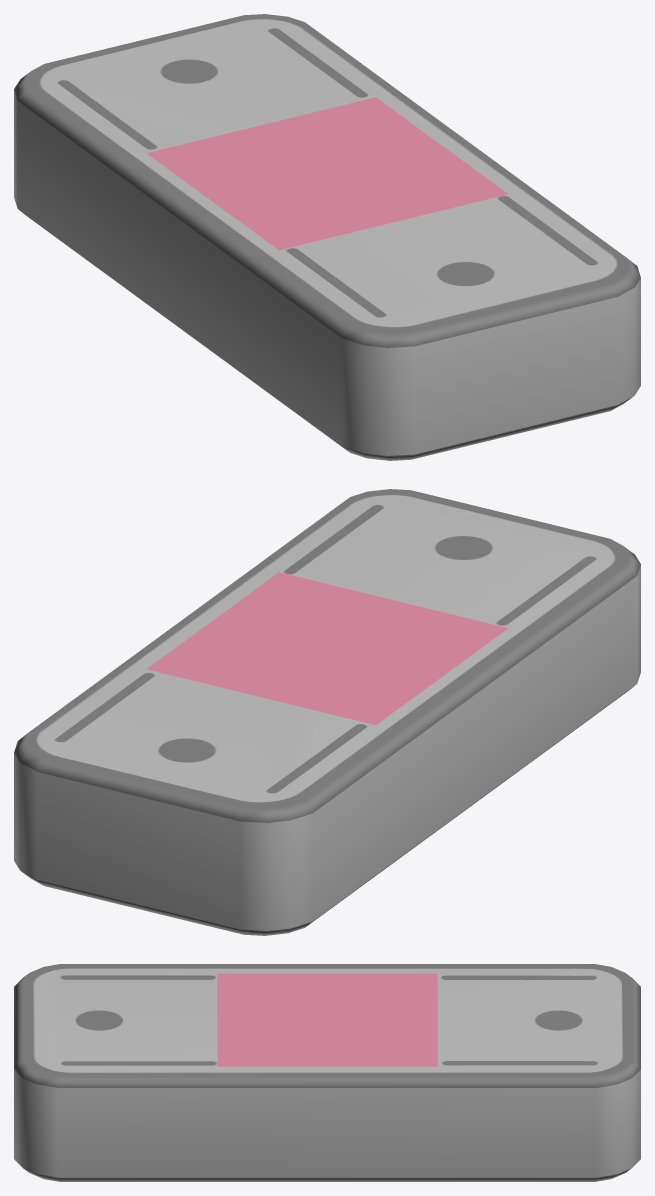
The model's file is money.fbx.
The picture shows the model from 3 angles, top to bottom: view 1: azimuth 30°, elevation 25°; view 2: azimuth 150°, elevation 25°; view 3: azimuth 270°, elevation 25°; orthographic projection. The views are drawn at different scales.
Visible parts, largest first — view 1: money, moneynumber1; view 2: money, moneynumber1; view 3: money, moneynumber1.
Boxes of the visible parts, bbox=[...] form: money: bbox=[14, 14, 640, 460]; moneynumber1: bbox=[147, 97, 507, 250]; money: bbox=[14, 489, 640, 935]; moneynumber1: bbox=[147, 572, 507, 725]; money: bbox=[14, 964, 640, 1181]; moneynumber1: bbox=[217, 973, 437, 1066].
Bounding box in the file's own units: 0.2059 × 0.085 × 0.4557.
